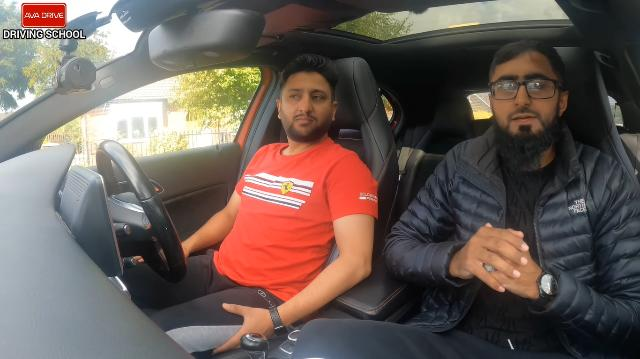no seatbelt: (445, 120, 631, 350), (168, 128, 382, 316)
